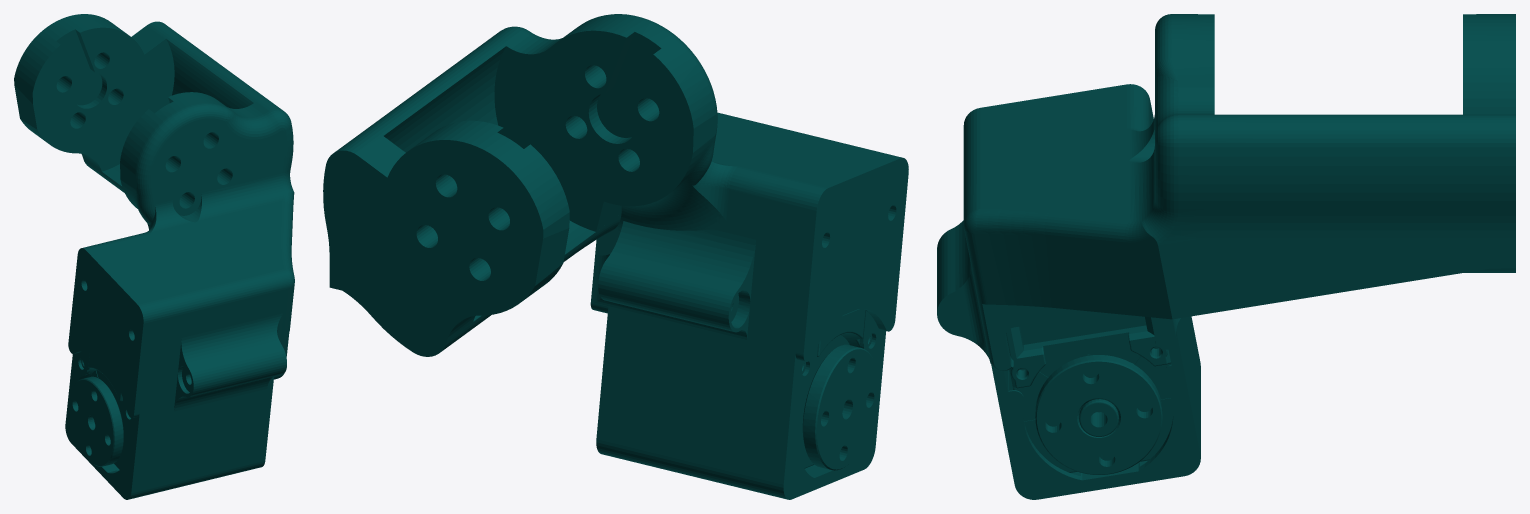
File: leg_left_hip_roll_visuals.obj
3 views of the same model, side by side, from view 1: azimuth 30°, elevation 25°; view 2: azimuth 150°, elevation 25°; view 3: azimuth 270°, elevation 25° (orthographic). The views are drawn at different scales.
Size of the model in its own units: 0.0561 by 0.0776 by 0.0874.
